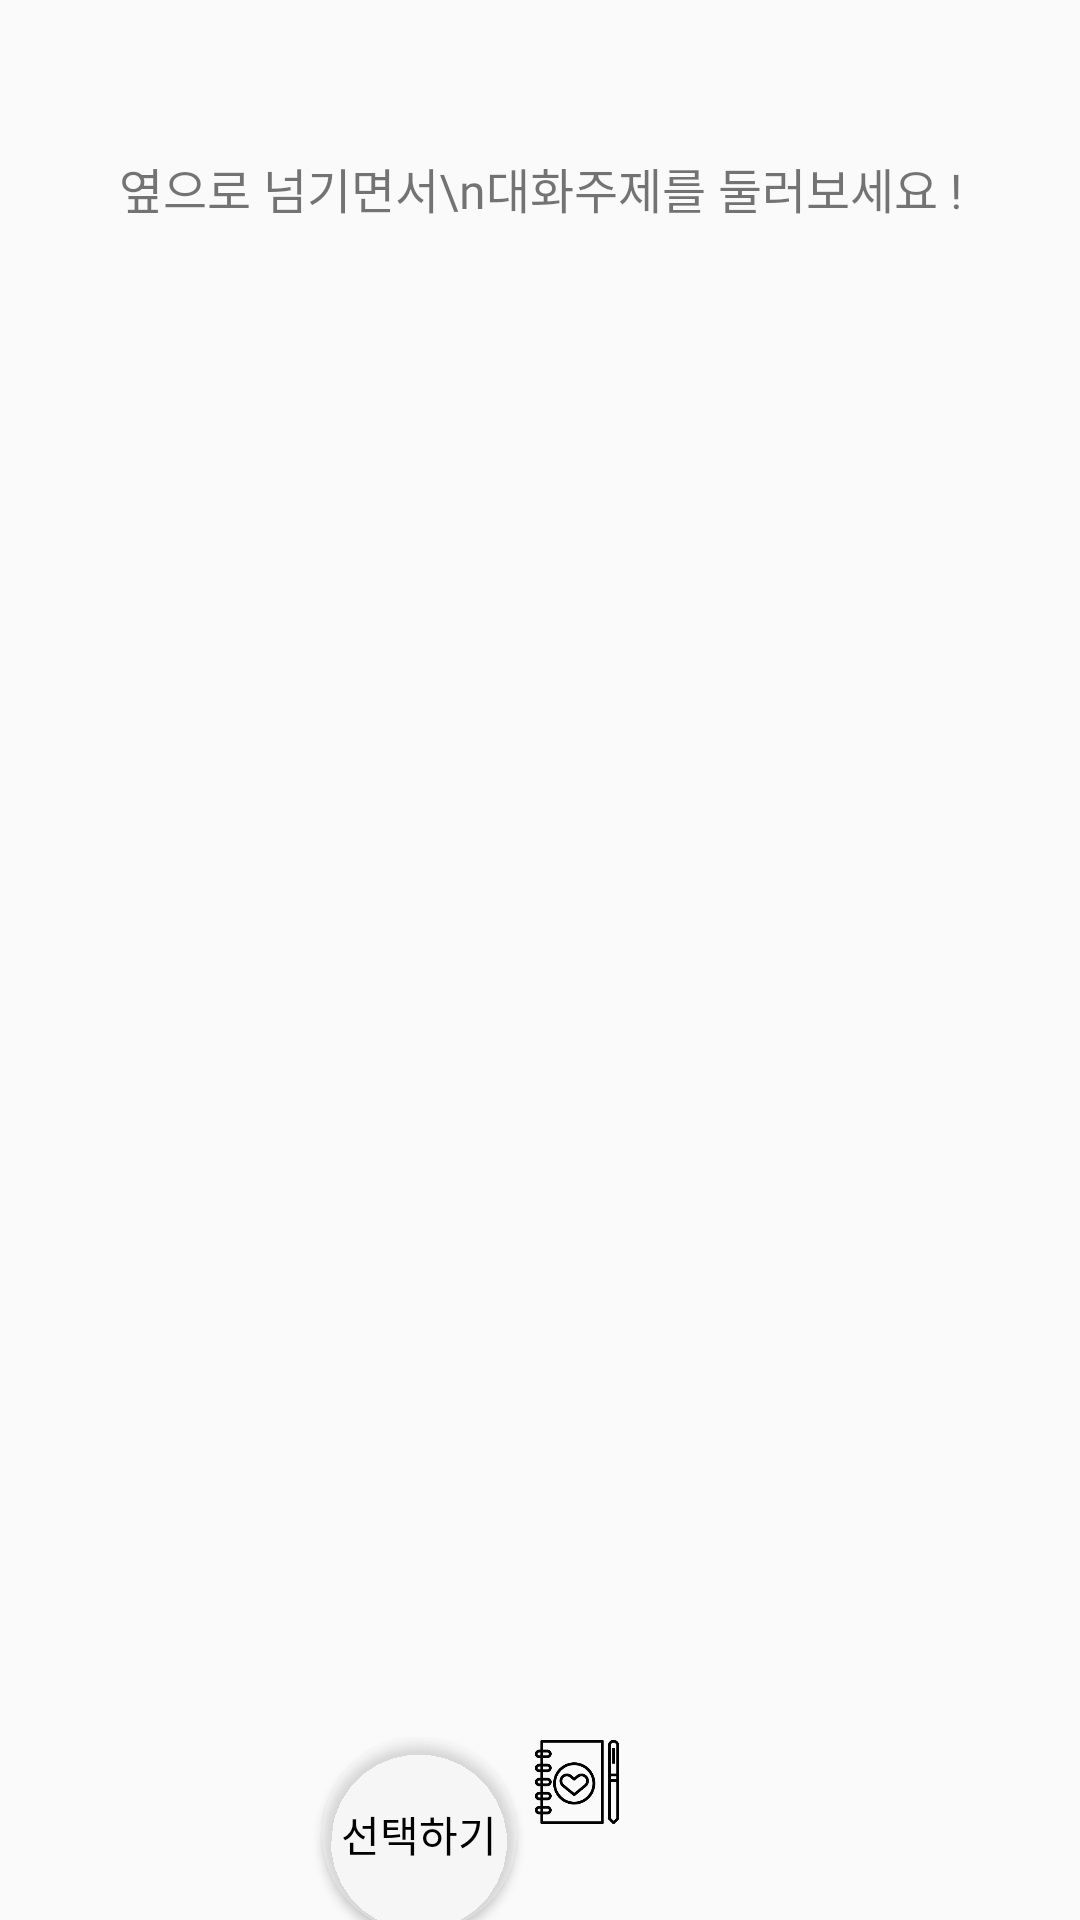

Named icons in this screenshot (1080×1920) and their bounding boxes, bbox=(x1, y1, x2, y2):
diary: bbox=(535, 1740, 619, 1824)
